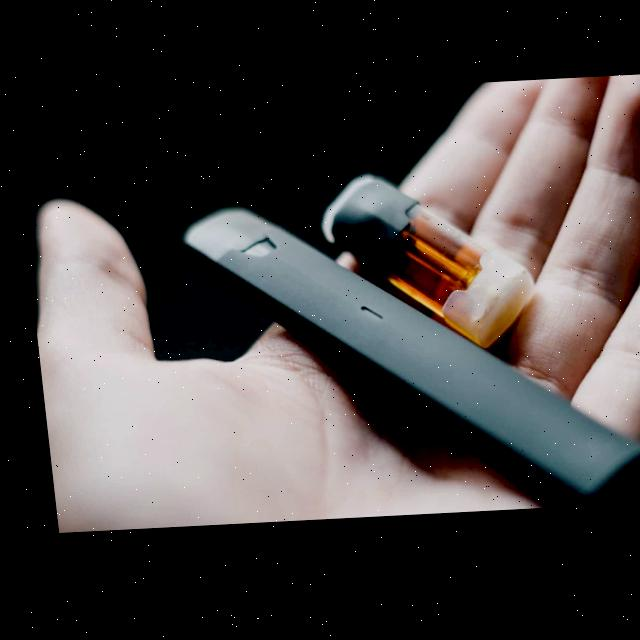vape: (179, 210, 640, 514)
